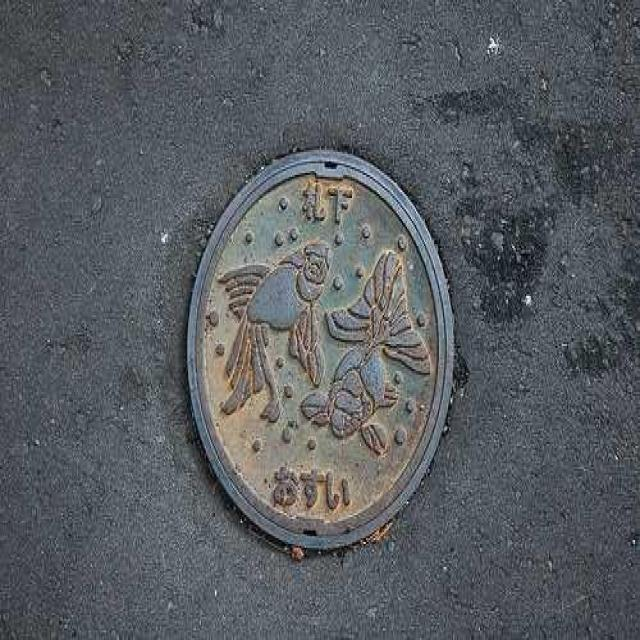manhole: (183, 150, 460, 559)
